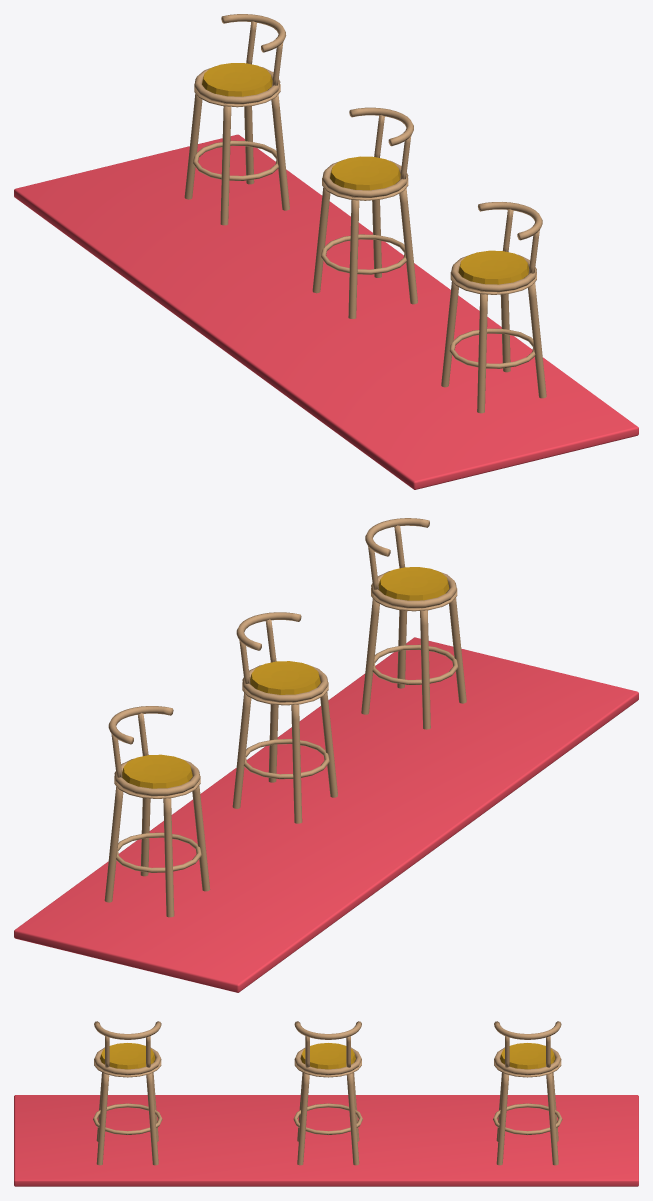
Rendered from High Chair Ramen.fbx.
3 renders of one model, top to bottom at view 1: azimuth 30°, elevation 25°; view 2: azimuth 150°, elevation 25°; view 3: azimuth 270°, elevation 25°, orthographic. The views are drawn at different scales.
Visible parts, largest first — view 1: Tapis_2, Sit_instance_2, Sit_instance_3, Sit_instance, Cylinder002_instance, Cylinder002_instance_2, Cylinder002_instance_3, Torus002_instance_2, Torus002_instance_3, Torus002_instance, Cylinder004_instance, Cylinder004_instance_2 (+10 smaller); view 2: Tapis_2, Sit_instance, Sit_instance_3, Sit_instance_2, Cylinder001_instance, Cylinder001_instance_2, Cylinder001_instance_3, Torus002_instance, Cylinder003_instance_2, Torus002_instance_2, Cylinder003_instance, Torus002_instance_3 (+10 smaller); view 3: Tapis_2, Sit_instance, Sit_instance_2, Sit_instance_3, Cylinder003_instance, Cylinder004_instance_2, Cylinder003_instance_3, Cylinder004_instance_3, Cylinder003_instance_2, Cylinder004_instance, Torus002_instance, Torus002_instance_3 (+7 smaller).
Boxes of the visible parts, left/top/right/bottom form: Tapis_2: left=14, top=134, right=638, bottom=489; Sit_instance_2: left=330, top=156, right=400, bottom=190; Sit_instance_3: left=458, top=250, right=528, bottom=284; Sit_instance: left=202, top=63, right=272, bottom=96; Cylinder002_instance: left=220, top=103, right=231, bottom=225; Cylinder002_instance_2: left=348, top=197, right=359, bottom=318; Cylinder002_instance_3: left=477, top=291, right=487, bottom=413; Torus002_instance_2: left=321, top=234, right=406, bottom=274; Torus002_instance_3: left=449, top=328, right=535, bottom=368; Torus002_instance: left=193, top=140, right=278, bottom=180; Cylinder004_instance: left=271, top=91, right=289, bottom=210; Cylinder004_instance_2: left=399, top=184, right=417, bottom=304; Tapis_2: left=14, top=637, right=638, bottom=992; Sit_instance: left=122, top=754, right=192, bottom=788; Sit_instance_3: left=378, top=567, right=449, bottom=600; Sit_instance_2: left=250, top=661, right=320, bottom=694; Cylinder001_instance: left=163, top=795, right=174, bottom=917; Cylinder001_instance_2: left=291, top=701, right=302, bottom=823; Cylinder001_instance_3: left=420, top=607, right=430, bottom=729; Torus002_instance: left=116, top=832, right=201, bottom=872; Cylinder003_instance_2: left=232, top=689, right=251, bottom=808; Torus002_instance_2: left=243, top=739, right=329, bottom=779; Cylinder003_instance: left=104, top=783, right=123, bottom=902; Torus002_instance_3: left=372, top=644, right=458, bottom=684; Tapis_2: left=14, top=1095, right=638, bottom=1186; Sit_instance: left=500, top=1043, right=555, bottom=1069; Sit_instance_2: left=300, top=1043, right=355, bottom=1069; Sit_instance_3: left=100, top=1043, right=155, bottom=1069; Cylinder003_instance: left=546, top=1071, right=558, bottom=1165; Cylinder004_instance_2: left=297, top=1071, right=309, bottom=1165; Cylinder003_instance_3: left=146, top=1071, right=158, bottom=1165; Cylinder004_instance_3: left=96, top=1071, right=109, bottom=1165; Cylinder003_instance_2: left=346, top=1071, right=359, bottom=1165; Cylinder004_instance: left=496, top=1071, right=509, bottom=1165; Torus002_instance: left=493, top=1103, right=562, bottom=1135; Torus002_instance_3: left=93, top=1103, right=162, bottom=1134.
Size of the model in its own units: 62.36 by 47.61 by 192.
Materials: 3 (1 with a texture image).
